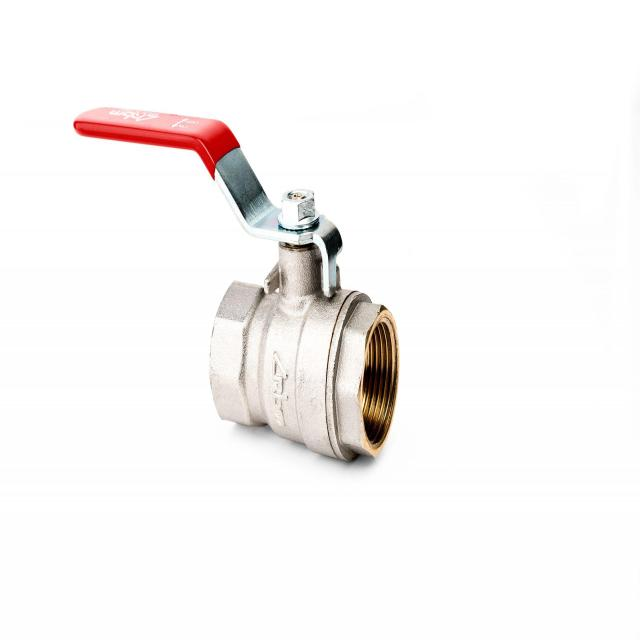opened_valve: (72, 103, 401, 463)
